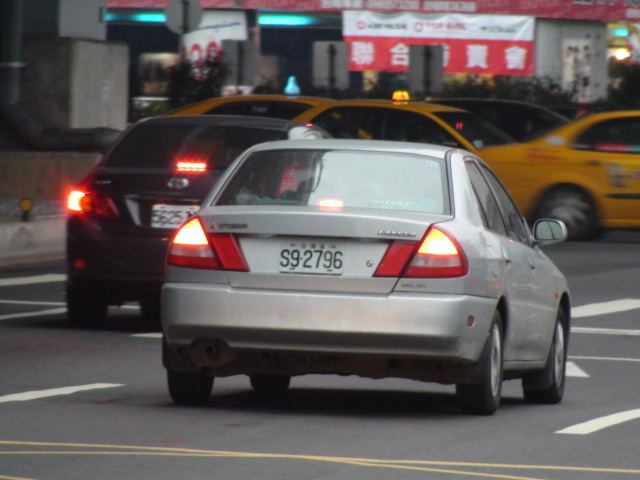plate: (278, 239, 345, 276), (149, 201, 197, 230)
